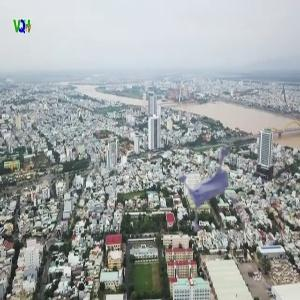drone: (161, 127, 260, 226)
